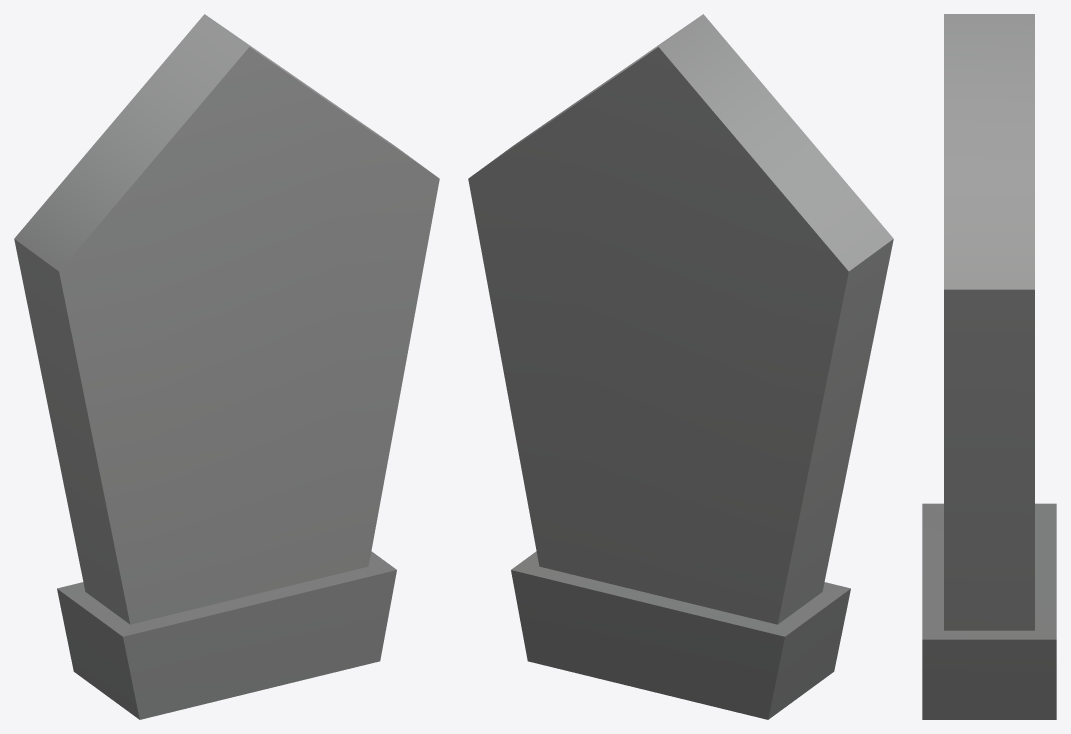
Rendered from grave_stone2.fbx.
3 views of the same model, side by side, from view 1: azimuth 30°, elevation 25°; view 2: azimuth 150°, elevation 25°; view 3: azimuth 270°, elevation 25° (orthographic).
Parts seen in each view (by area): view 1: grave_stone2; view 2: grave_stone2; view 3: grave_stone2.
Part boxes in pixels (x1=…): grave_stone2: x1=14, y1=14, x2=439, y2=719; grave_stone2: x1=468, y1=14, x2=893, y2=719; grave_stone2: x1=922, y1=14, x2=1056, y2=719.
Bounding box in the file's own units: 4.89 × 7.81 × 1.47.
